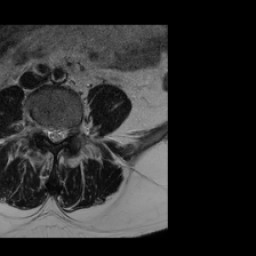CCS_stenosis: (52, 121, 59, 149)
LFS_normal: (66, 119, 74, 139)
LLS_normal: (59, 121, 65, 143)
RFS_normal: (39, 117, 45, 139)
RLS_normal: (45, 121, 52, 146)
